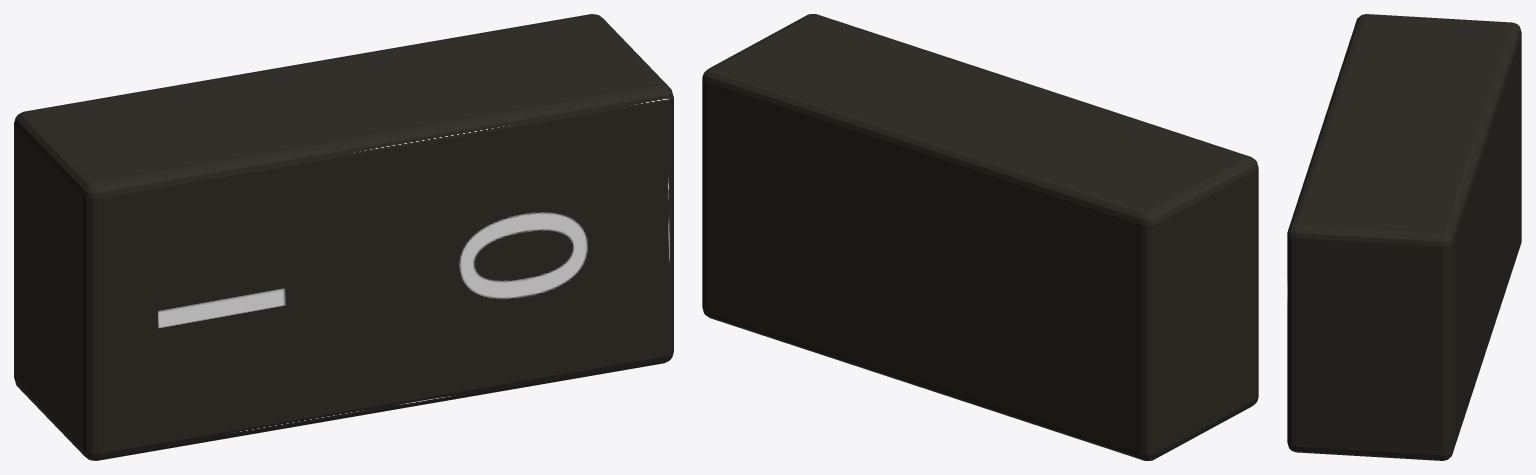
File: microscope - power switch.glb
3 views of the same model, side by side, from view 1: azimuth 30°, elevation 25°; view 2: azimuth 150°, elevation 25°; view 3: azimuth 270°, elevation 25° (orthographic). The views are drawn at different scales.
Visible parts, largest first — view 1: Power Switch Grp; view 2: Power Switch Grp; view 3: Power Switch Grp.
Part boxes in pixels (bbox=[...]): Power Switch Grp: bbox=[14, 14, 673, 460]; Power Switch Grp: bbox=[702, 14, 1258, 460]; Power Switch Grp: bbox=[1287, 14, 1521, 460].
Bounding box in the file's own units: 0.3969 × 0.1849 × 0.1734.
1 material, 1 textured.
